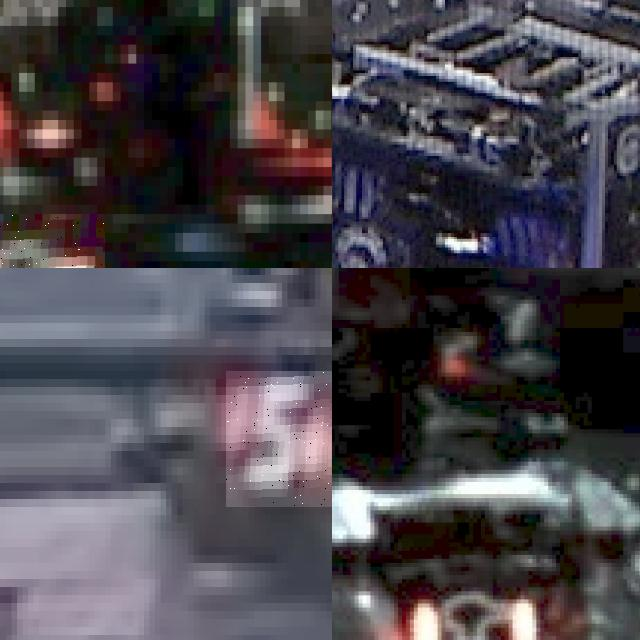R5: (226, 371, 332, 507)
Rs: (0, 214, 105, 268), (413, 599, 536, 640)
